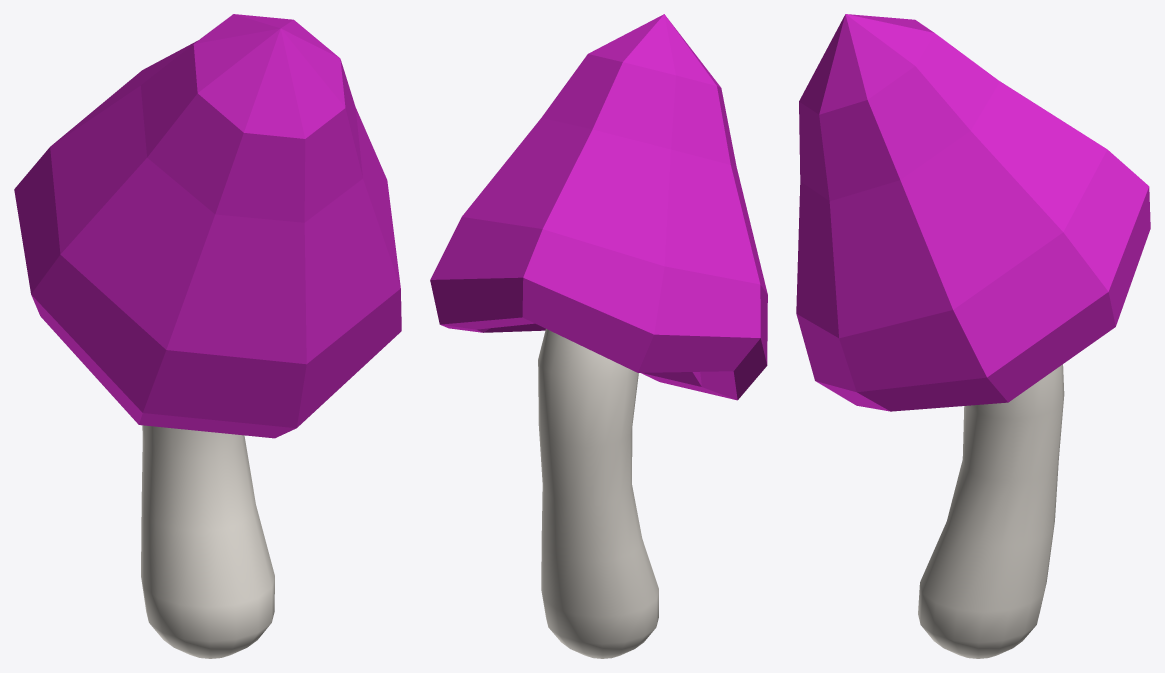
File: FBX_Mushroom_Tall.fbx
The picture shows the model from 3 angles, left to right: view 1: azimuth 30°, elevation 25°; view 2: azimuth 150°, elevation 25°; view 3: azimuth 270°, elevation 25°; orthographic projection. The views are drawn at different scales.
Visible parts, largest first — view 1: pSphere3; view 2: pSphere3; view 3: pSphere3.
Boxes of the visible parts, x1,y1,x2,y2 form: pSphere3: [14, 14, 401, 658]; pSphere3: [430, 14, 767, 658]; pSphere3: [796, 14, 1150, 658].
Bounding box in the file's own units: 1.27 × 2.28 × 1.14.
1 material, 1 textured.
